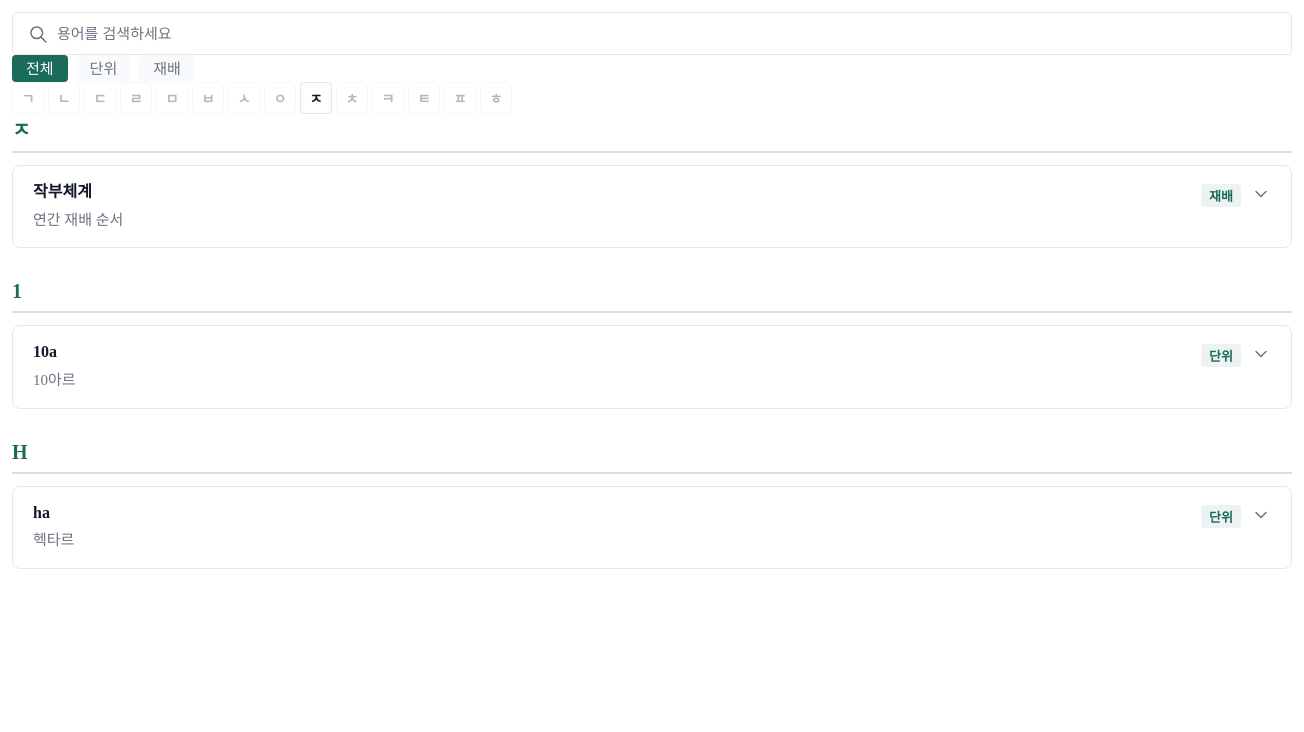
Test: 용어집 관련 용어 — 옮겨 간 용어로 포커스 (F5) › 관련 용어 버튼을 누르면 그 용어가 펼쳐지고 펼침 버튼에 포커스가 간다(스크롤은 한 번 — preventScroll)
Click the button "ha 헥타르 단위" at coordinates (54, 540), box top-left (13, 487), bottom-right (1291, 568)
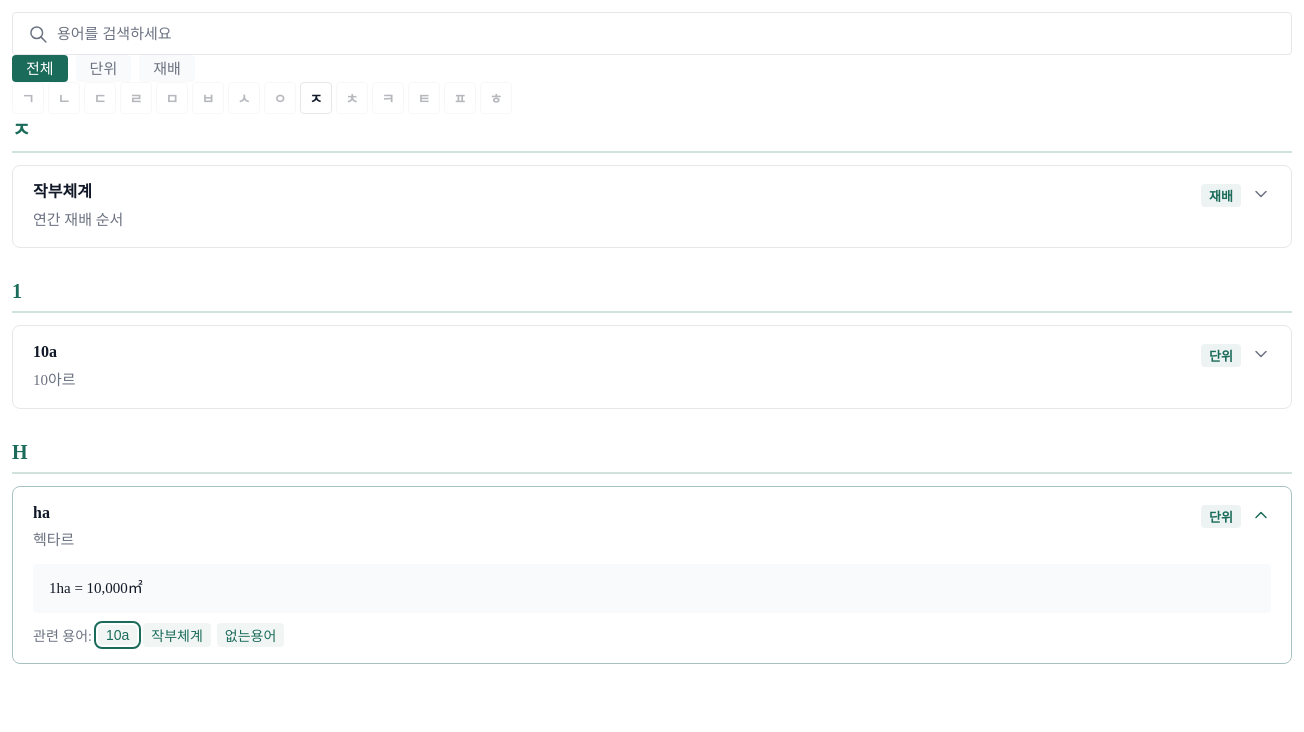
Click the button "10a" at coordinates (118, 635), box top-left (98, 625), bottom-right (137, 645)
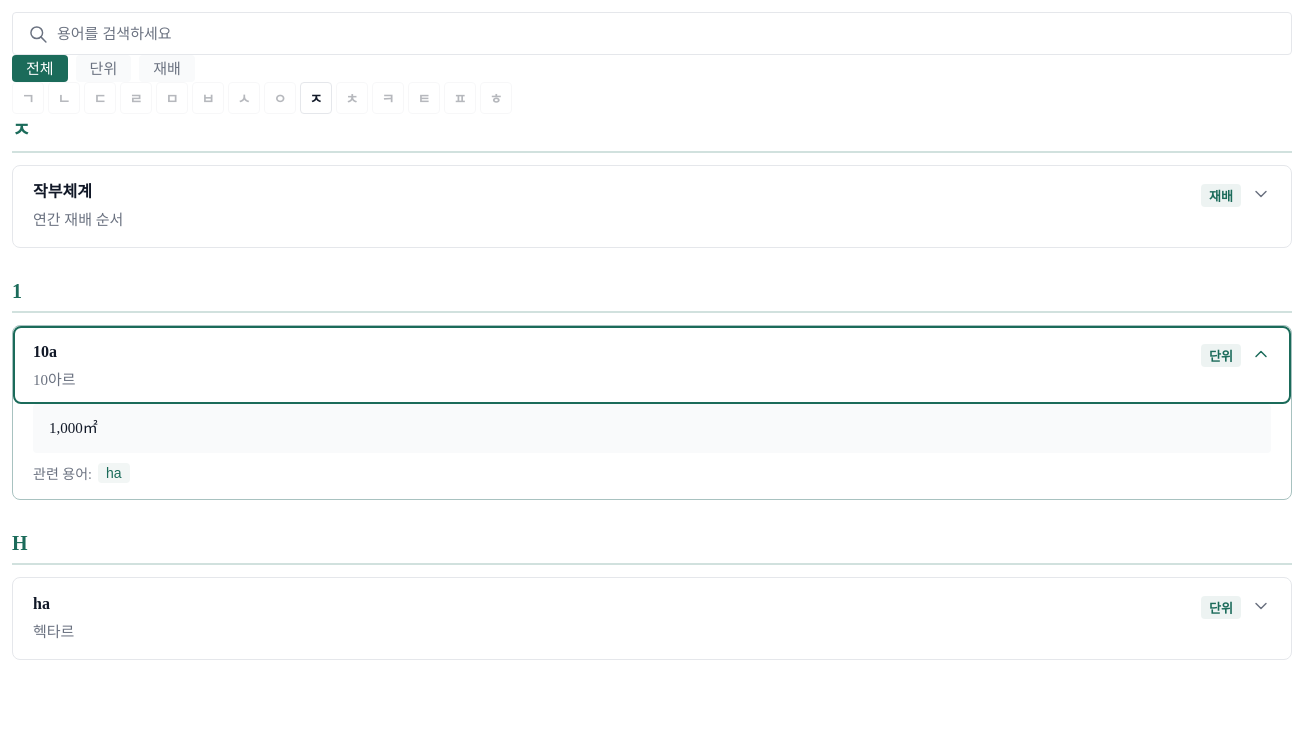
Result: the button "10a 10아르 단위" is expanded at top-left (13, 326), bottom-right (1291, 404)
Result: the button "ha 헥타르 단위" is collapsed at top-left (13, 578), bottom-right (1291, 659)
